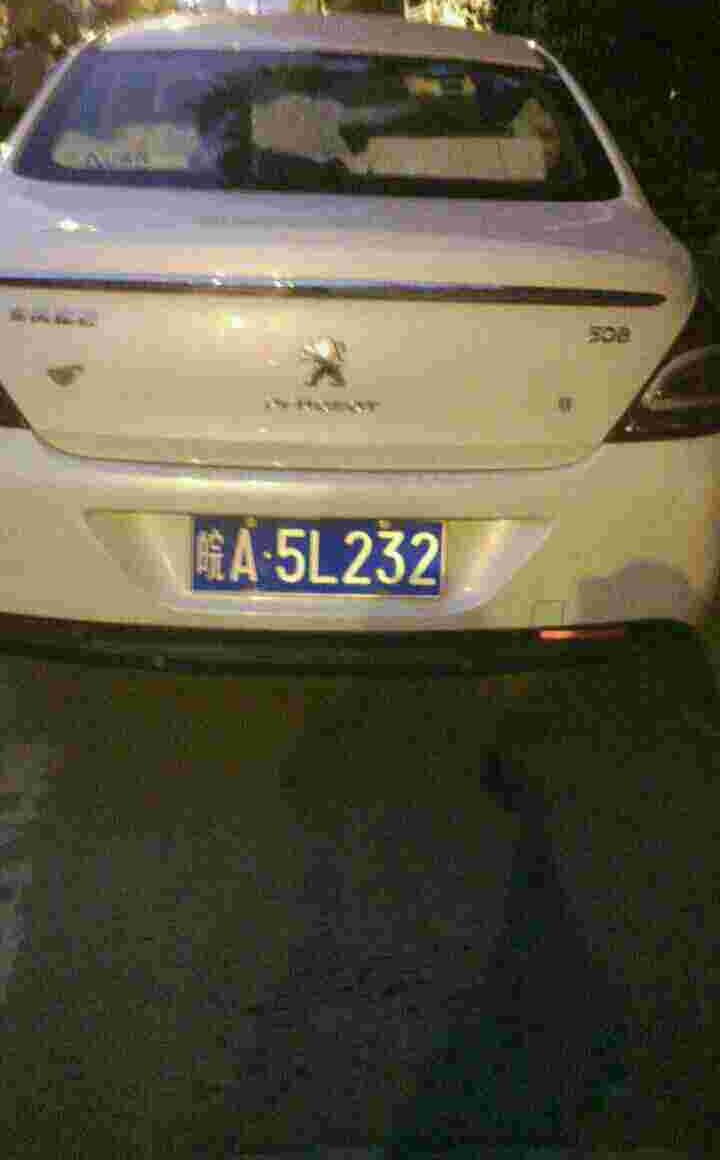plate: (191, 511, 452, 601)
